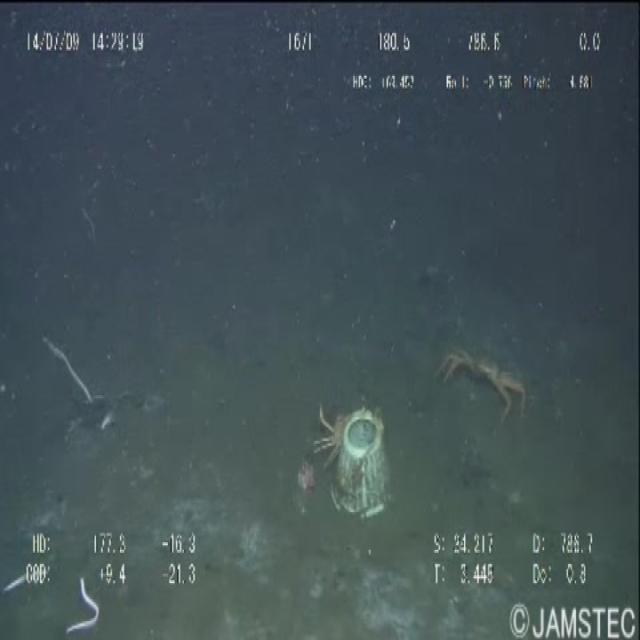Cutlery: (319, 406, 401, 542)
